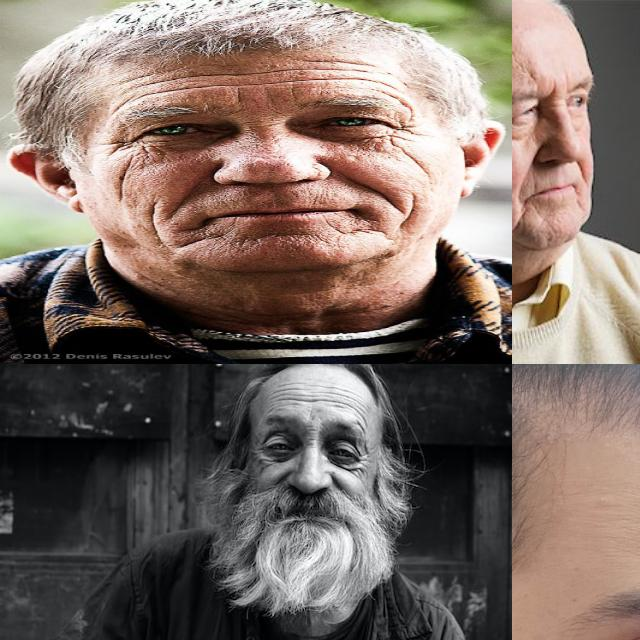chin: (239, 228, 328, 241)
crows_feet: (386, 118, 424, 146), (102, 131, 141, 156), (254, 445, 268, 467), (355, 454, 367, 476)
forehead: (303, 56, 387, 91), (202, 66, 288, 89), (128, 70, 188, 98), (319, 386, 359, 414), (278, 384, 314, 404)
frown_line: (547, 78, 561, 99), (304, 424, 318, 444)
gummy_smile: (334, 173, 397, 198), (163, 187, 202, 218), (326, 472, 348, 496), (576, 156, 590, 187), (272, 469, 290, 486)
masseter: (391, 194, 426, 224), (111, 164, 139, 200)
sad_smile: (173, 225, 214, 254), (348, 213, 392, 235), (512, 203, 528, 234)
